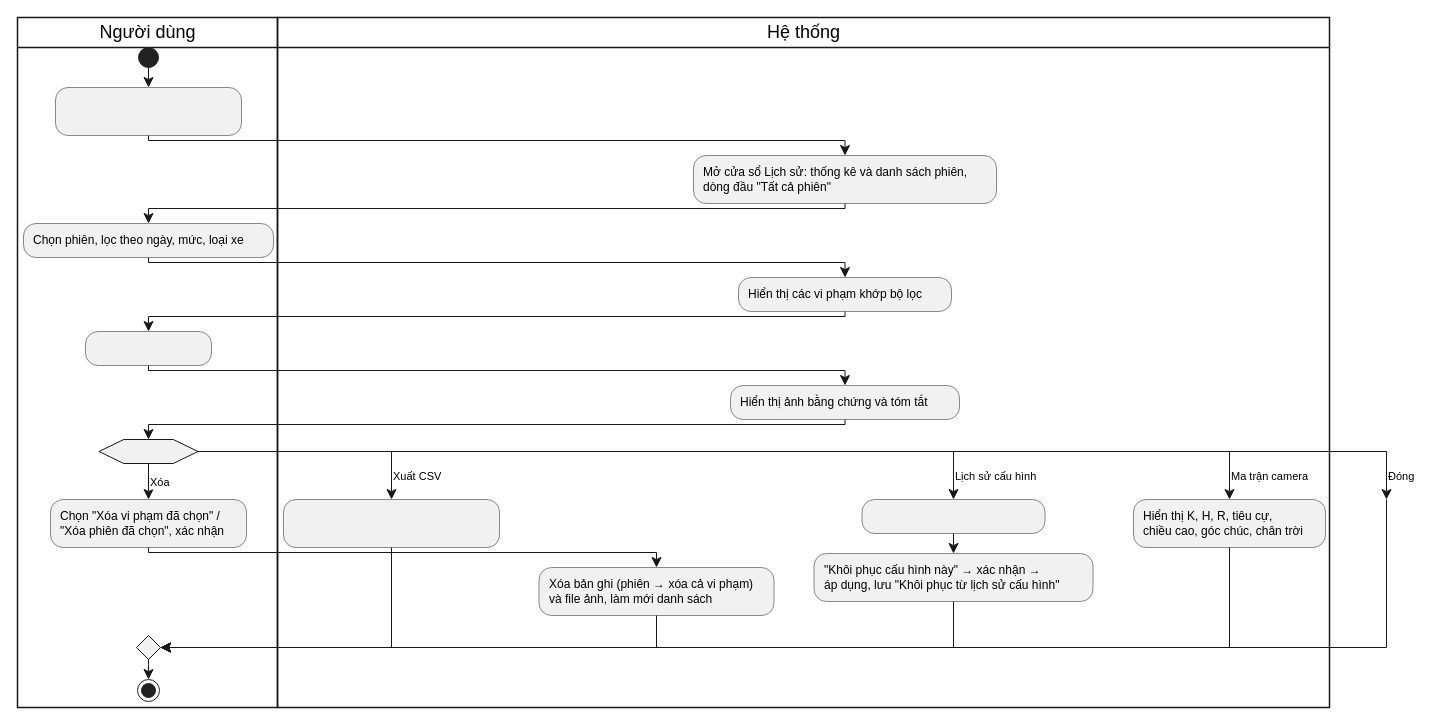
This 1434x726 diagram has some shape labels left out. Here are the shapes that lost their labels. From the top down, the centre of each, then its label:
pixel 148 111: Bấm "Lịch sử" (thanh tiêu đề hoặc tab "Vi phạm")
pixel 148 348: Chọn một vi phạm
pixel 148 451: Thao tác tiếp?
pixel 391 523: Chọn nơi lưu, ghi CSV UTF-8 BOM (không có vi phạm → báo)
pixel 953 516: Hiển thị bản chụp cấu hình
